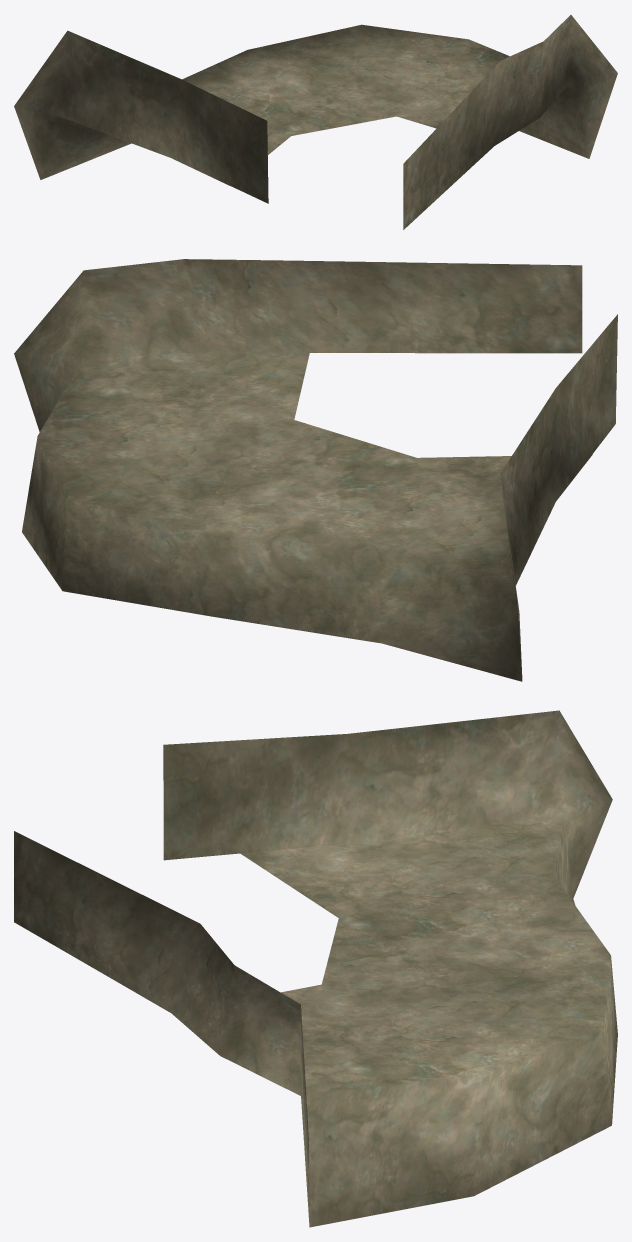
The model's file is EKH_GROTTO_PS_GR_LINE24.fbx.
3 renders of one model, top to bottom at view 1: azimuth 30°, elevation 25°; view 2: azimuth 150°, elevation 25°; view 3: azimuth 270°, elevation 25°, orthographic. The views are drawn at different scales.
Parts seen in each view (by area): view 1: EKH_GROTTO_PS_GR_LINE24; view 2: EKH_GROTTO_PS_GR_LINE24; view 3: EKH_GROTTO_PS_GR_LINE24.
Boxes of the visible parts, x1=… form: EKH_GROTTO_PS_GR_LINE24: x1=14, y1=15, x2=617, y2=229; EKH_GROTTO_PS_GR_LINE24: x1=14, y1=259, x2=617, y2=681; EKH_GROTTO_PS_GR_LINE24: x1=14, y1=710, x2=617, y2=1227.
Size of the model in its own units: 45755 by 14976 by 35398.
1 material, 1 textured.
